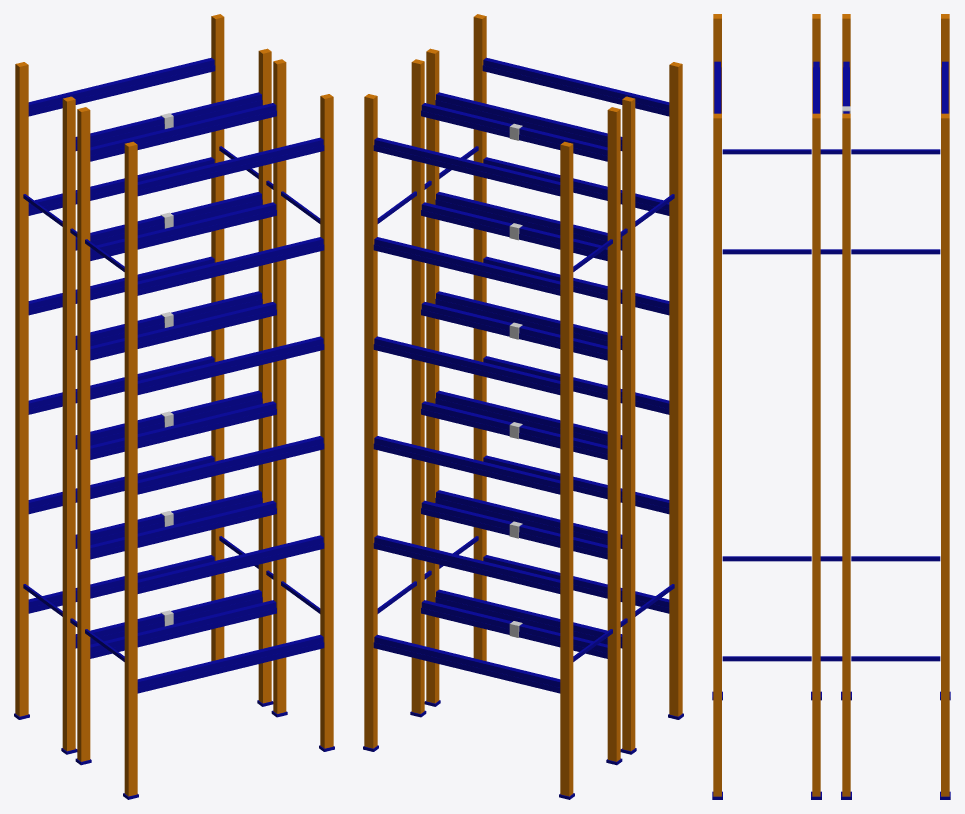
Rendered from high-duty-C23-6-pair.glb.
3 renders of one model, left to right at view 1: azimuth 30°, elevation 25°; view 2: azimuth 150°, elevation 25°; view 3: azimuth 270°, elevation 25°, orthographic. The views are drawn at different scales.
Parts seen in each view (by area): view 1: group2_geometry_0, group1_geometry_0, group1_geometry_4, group2_geometry_4, group2_geometry_2, group2_geometry_6, group1_geometry_2, group1_geometry_6, group2_geometry_20, group2_geometry_28, group2_geometry_8, group2_geometry_16 (+39 smaller); view 2: group1_geometry_4, group2_geometry_4, group2_geometry_0, group1_geometry_0, group1_geometry_6, group1_geometry_2, group2_geometry_6, group2_geometry_2, group1_geometry_25, group1_geometry_35, group1_geometry_10, group1_geometry_20 (+39 smaller); view 3: group1_geometry_2, group1_geometry_6, group2_geometry_2, group2_geometry_6, group1_geometry_4, group2_geometry_0, group2_geometry_4, group1_geometry_38, group1_geometry_39, group1_geometry_40, group1_geometry_41, group2_geometry_32 (+4 smaller).
Boxes of the visible parts, x1,y1,x2,y2 form: group2_geometry_0: (124,141,137,796); group1_geometry_0: (62,96,75,751); group1_geometry_4: (15,62,28,716); group2_geometry_4: (77,107,90,761); group2_geometry_2: (320,94,333,748); group2_geometry_6: (273,59,286,713); group1_geometry_2: (258,48,271,703); group1_geometry_6: (211,14,224,661); group2_geometry_20: (137,336,323,389); group2_geometry_28: (137,137,323,190); group2_geometry_8: (137,634,323,687); group2_geometry_16: (137,436,323,488); group1_geometry_4: (560,141,573,796); group2_geometry_4: (622,96,635,751); group2_geometry_0: (669,62,682,716); group1_geometry_0: (607,107,620,761); group1_geometry_6: (364,94,377,748); group1_geometry_2: (411,59,424,713); group2_geometry_6: (426,48,439,703); group2_geometry_2: (473,14,486,661); group1_geometry_25: (374,336,560,389); group1_geometry_35: (374,137,560,190); group1_geometry_10: (374,634,560,687); group1_geometry_20: (374,436,560,488); group1_geometry_2: (842,113,850,796); group1_geometry_6: (941,113,949,796); group2_geometry_2: (713,113,721,796); group2_geometry_6: (812,113,820,796); group1_geometry_4: (941,14,949,113); group2_geometry_0: (713,14,721,113); group2_geometry_4: (812,14,820,113); group1_geometry_38: (851,556,940,561); group1_geometry_39: (851,149,940,154); group1_geometry_40: (851,656,940,661); group1_geometry_41: (851,249,940,254); group2_geometry_32: (722,556,811,561).
Size of the model in its own units: 2320 by 7000 by 2220.
